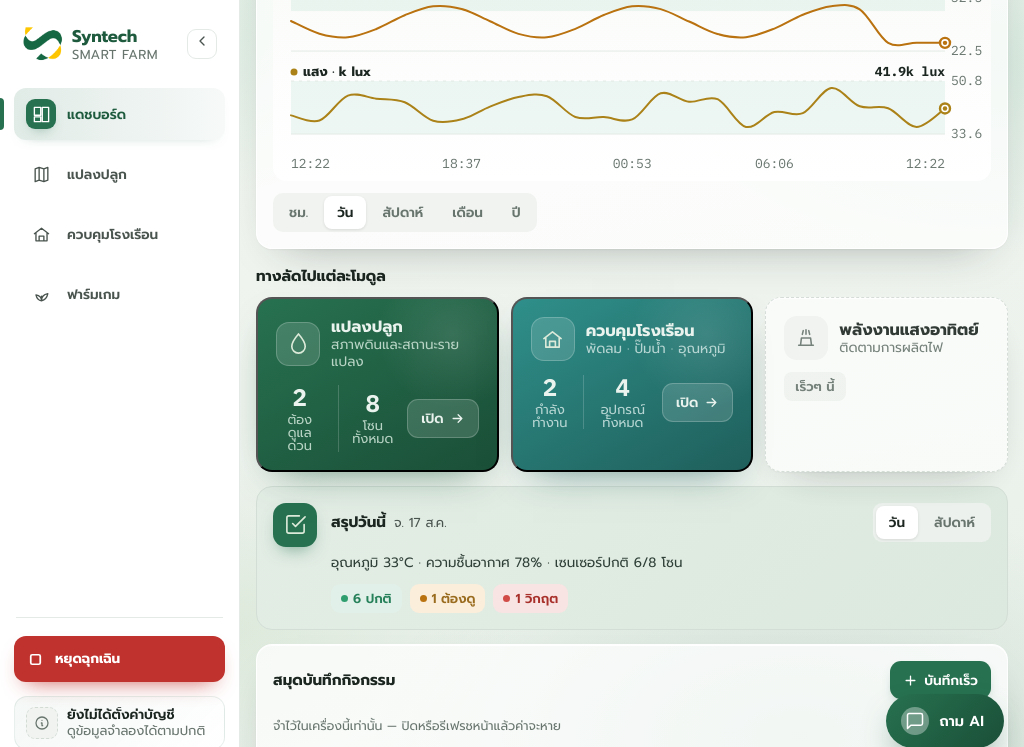
Test: DashboardPage › ทางลัดโรงเรือนพาไปหน้าควบคุมโรงเรือนจริง
(page scrolled)
Step 1. Click the button "ควบคุมโรงเรือน" → (632, 384), box [511,297,753,472]
(page scrolled)
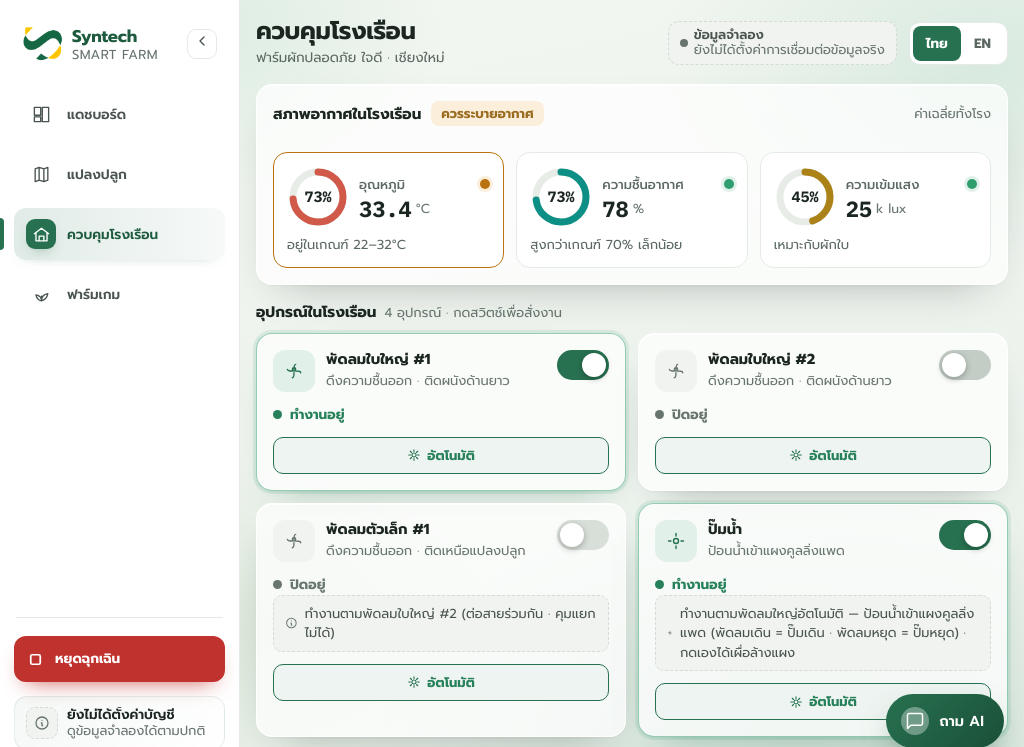
expect the heading "ควบคุมโรงเรือน" is shown: met, box [256,13,416,49]
